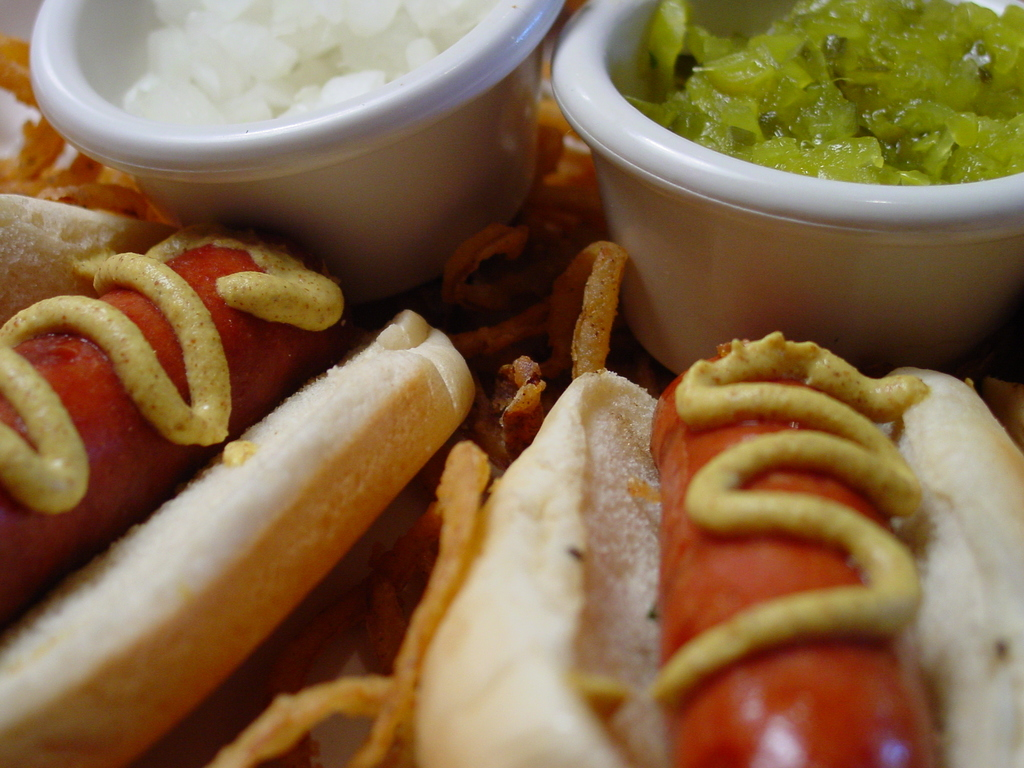hot_dog: (379, 323, 1023, 767), (0, 195, 481, 767)
